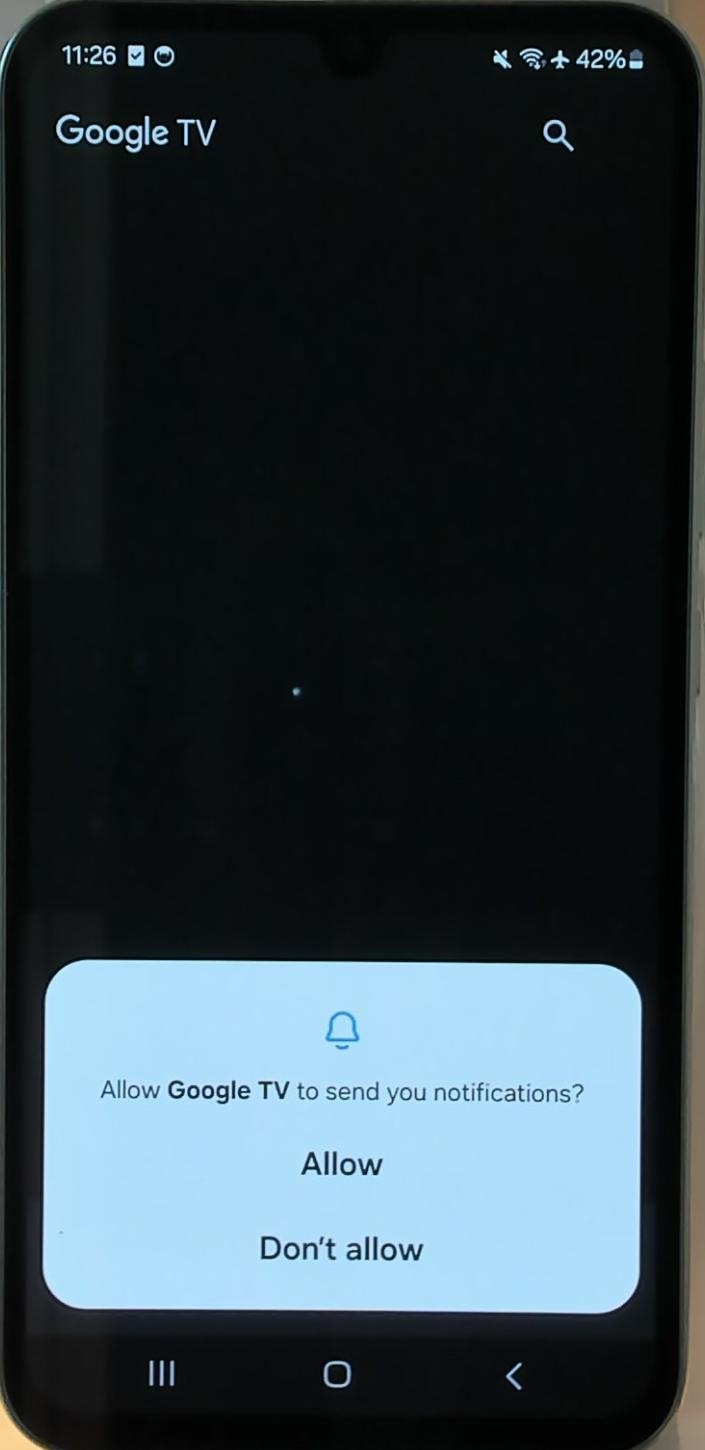CommunBotton: (254, 1220, 438, 1278), (294, 1142, 400, 1184), (528, 100, 590, 170), (488, 1346, 536, 1406), (134, 1342, 180, 1398), (328, 1352, 372, 1396)
